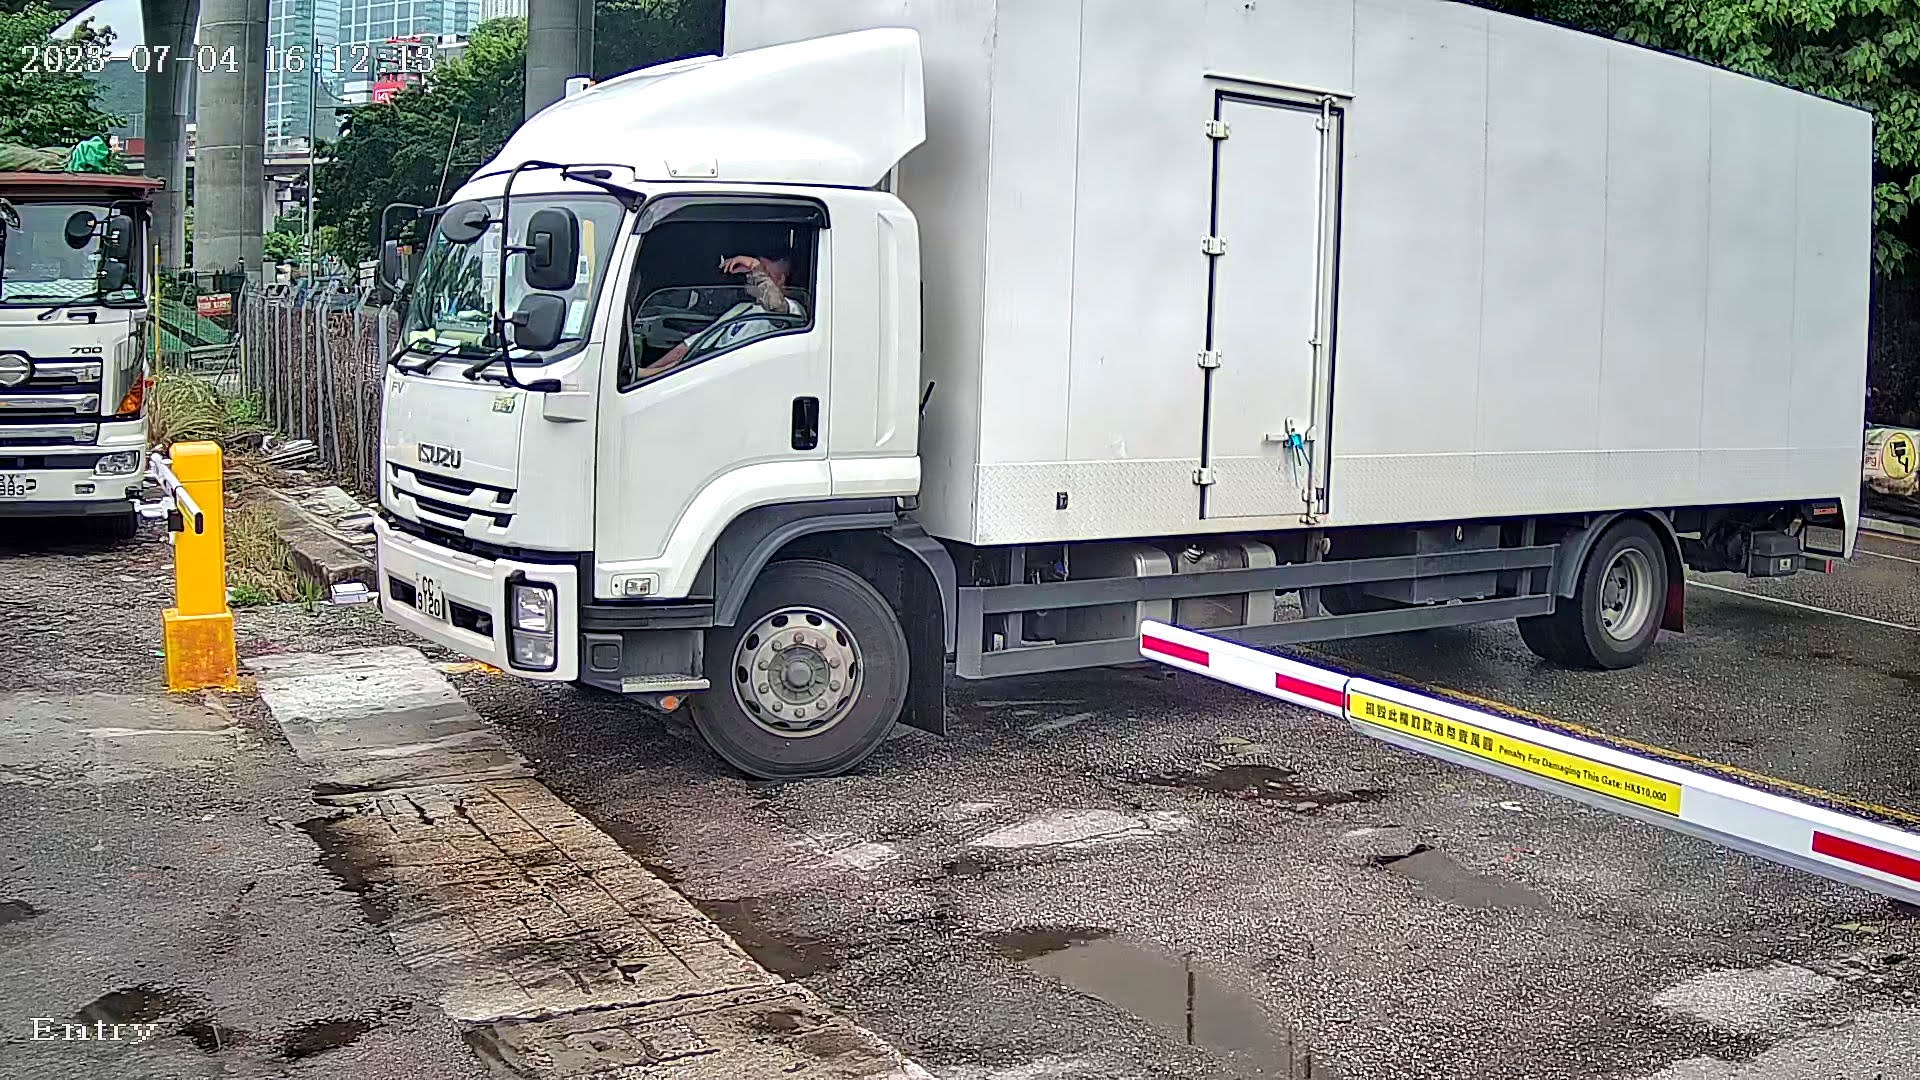truck_large: (339, 3, 1920, 758)
